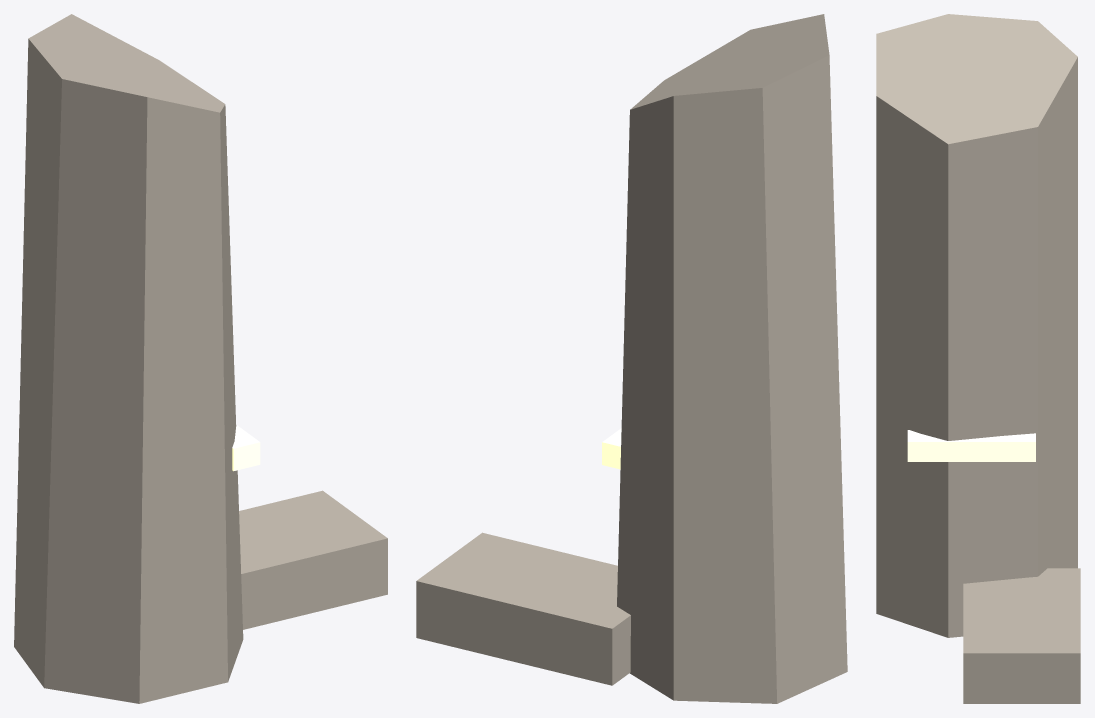
The model's file is ruin.glb.
3 views of the same model, side by side, from view 1: azimuth 30°, elevation 25°; view 2: azimuth 150°, elevation 25°; view 3: azimuth 270°, elevation 25° (orthographic). The views are drawn at different scales.
Parts seen in each view (by area): view 1: column, rubble, glow; view 2: column, rubble; view 3: column, rubble, glow.
Boxes of the visible parts, <box> form: column: <box>14,14,243,703</box>; rubble: <box>239,490,387,629</box>; glow: <box>232,424,260,471</box>; column: <box>617,14,847,703</box>; rubble: <box>416,532,630,685</box>; column: <box>876,14,1077,637</box>; rubble: <box>963,568,1080,703</box>; glow: <box>907,430,1035,461</box>.
Bounding box in the file's own units: 1.31 × 2.15 × 0.7324.
